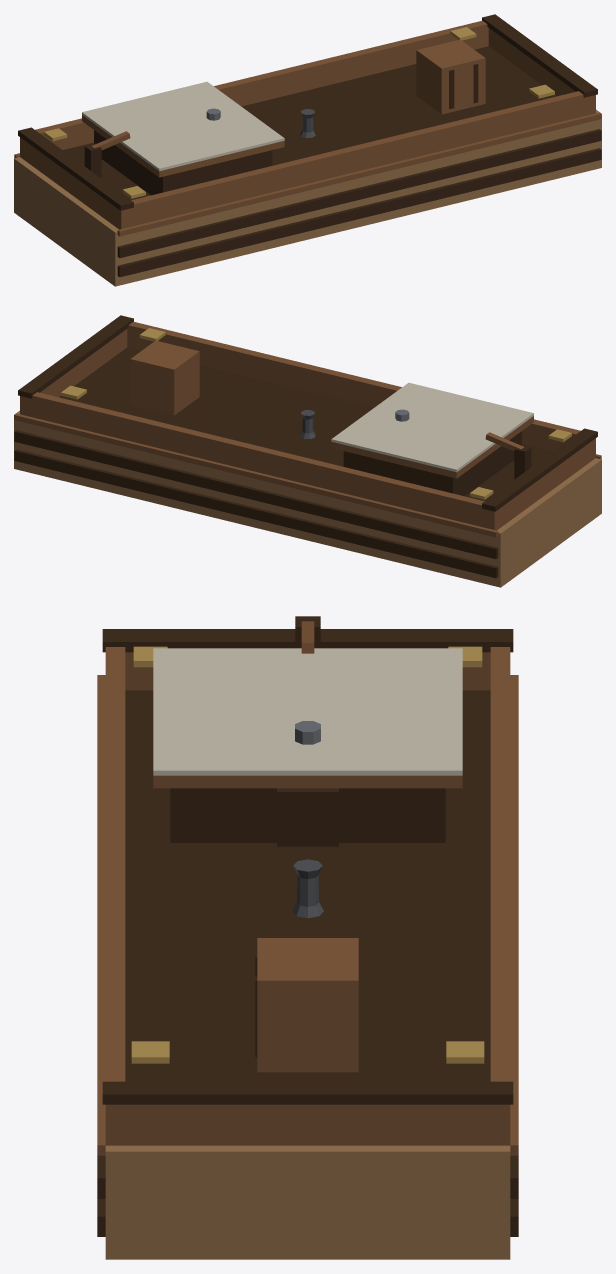
Rendered from SN_HT_Cargo_Lighter.glb.
3 renders of one model, top to bottom at view 1: azimuth 30°, elevation 25°; view 2: azimuth 150°, elevation 25°; view 3: azimuth 270°, elevation 25°, orthographic. The views are drawn at different scales.
Visible parts, largest first — view 1: SN_HT_Cargo_Lighter; view 2: SN_HT_Cargo_Lighter; view 3: SN_HT_Cargo_Lighter.
Part boxes in pixels (box(x1,y1,x2,y2)): SN_HT_Cargo_Lighter: box(14, 14, 601, 286); SN_HT_Cargo_Lighter: box(14, 315, 601, 587); SN_HT_Cargo_Lighter: box(97, 616, 518, 1259).
Size of the model in its own units: 8 by 1.6 by 3.
